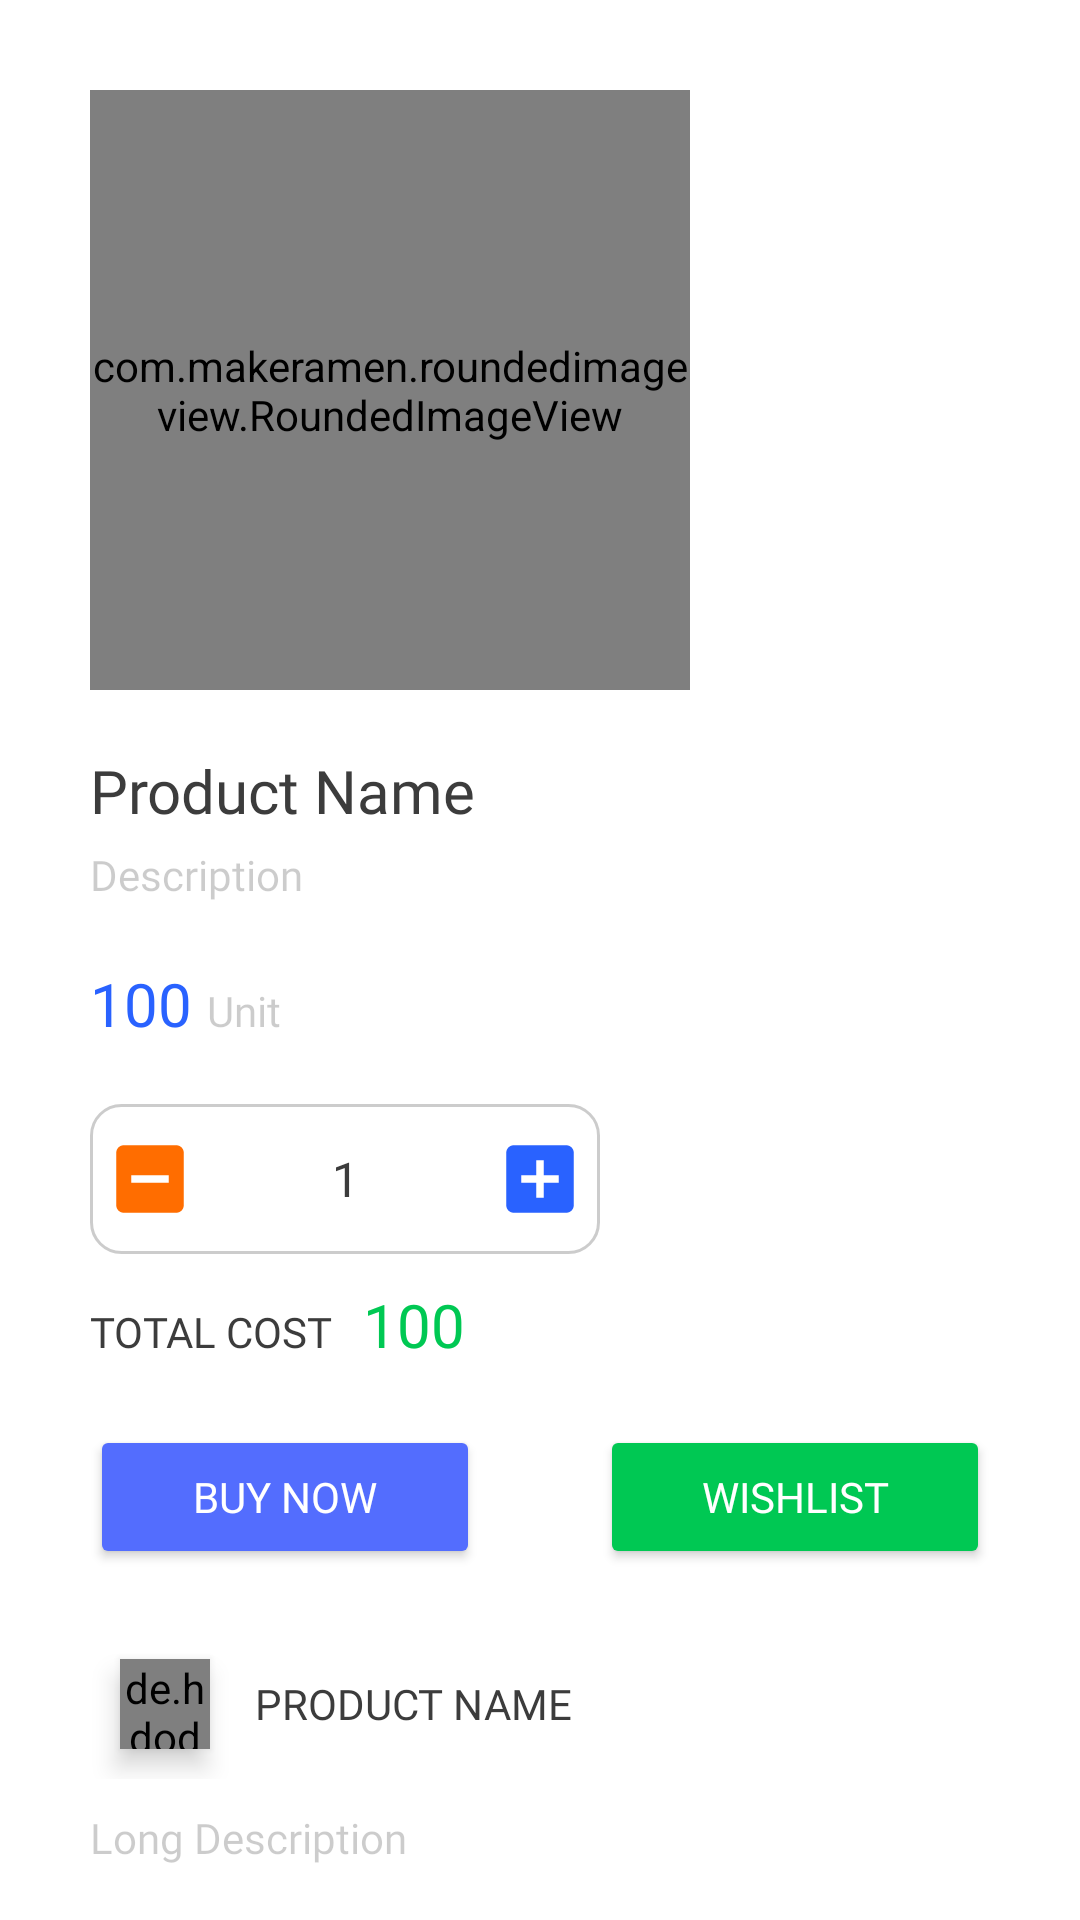

Locate icon controls on the screen. Image size 1080px x 1920px, boxes as {"x1": x1, "y1": y1, "x2": x2, "y2": y2}.
add box: {"x1": 506, "y1": 1145, "x2": 574, "y2": 1213}
indeterminate check box: {"x1": 116, "y1": 1145, "x2": 184, "y2": 1213}
